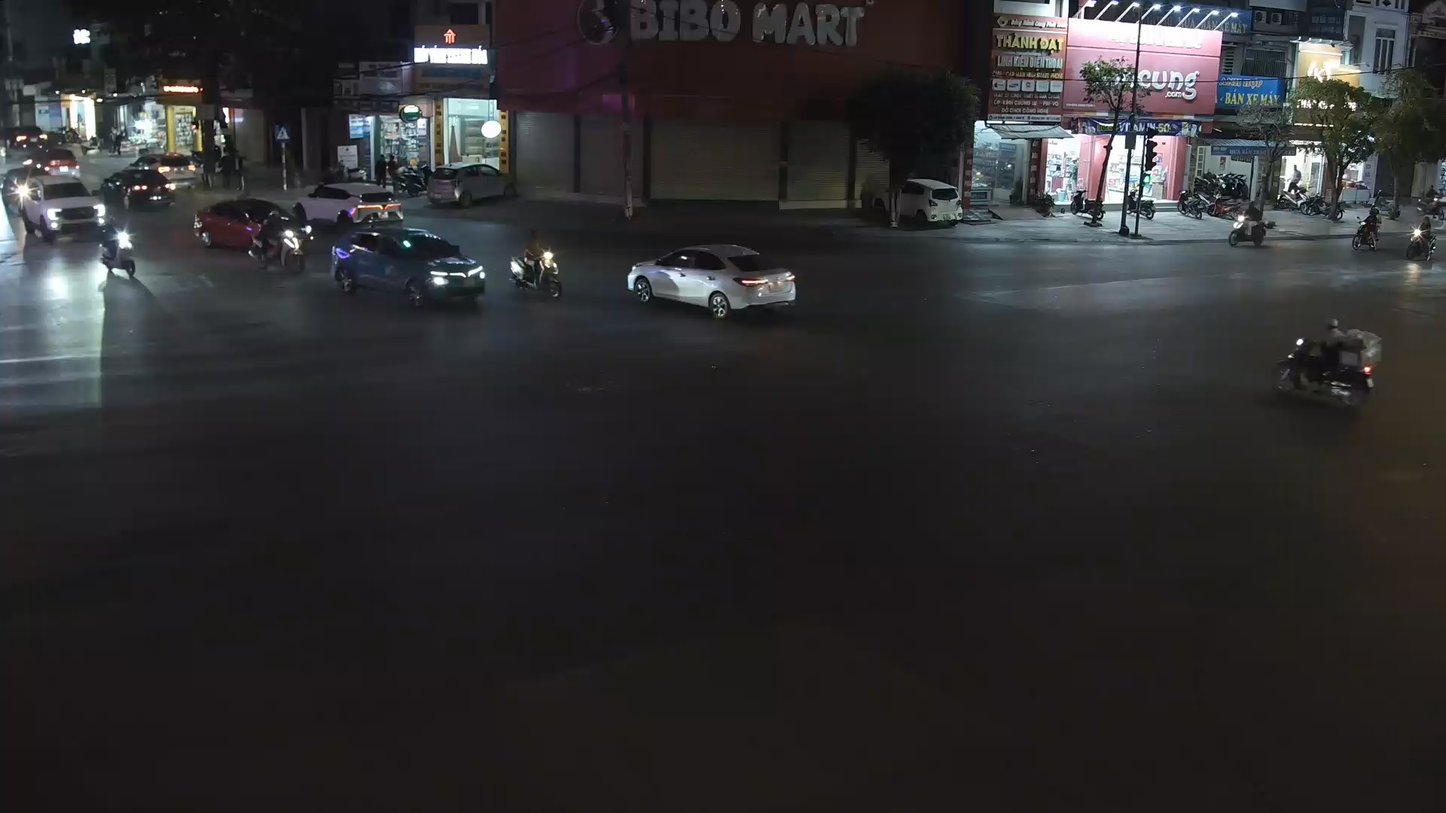car: (328, 222, 489, 310), (626, 242, 800, 320), (1274, 315, 1380, 413)
motorbike: (1274, 315, 1379, 414), (507, 220, 566, 301)
